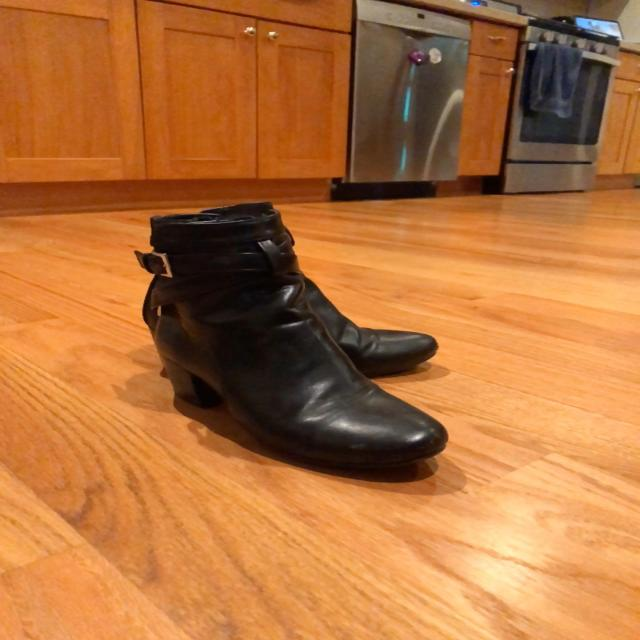shoe: (135, 203, 450, 481)
